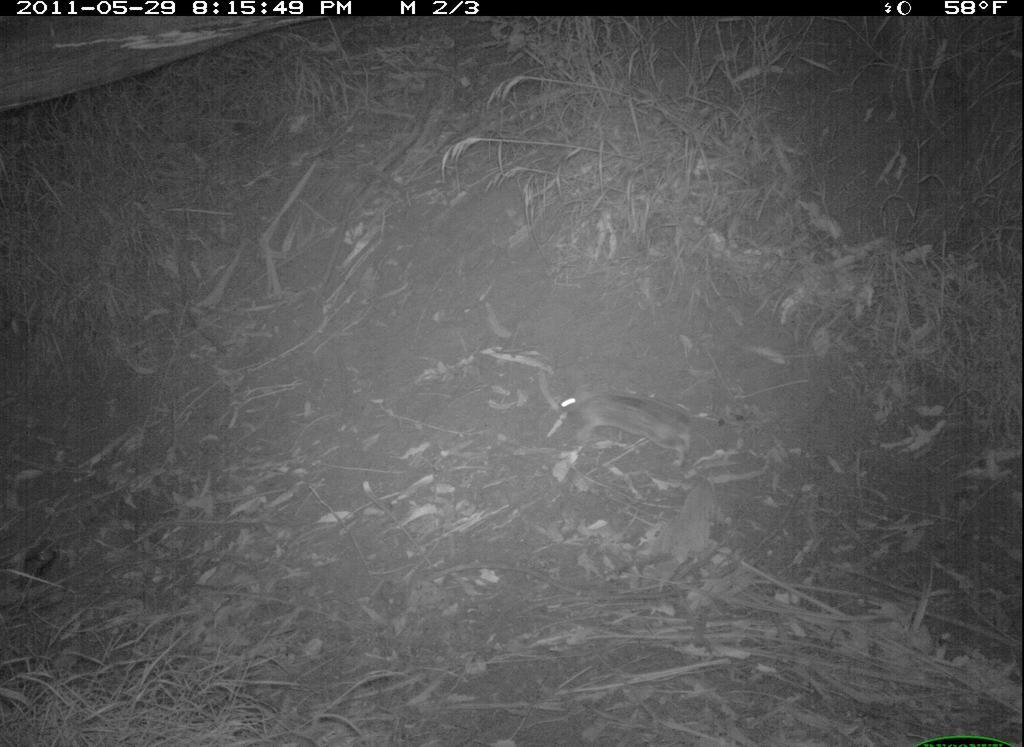rabbit: (543, 378, 713, 474)
